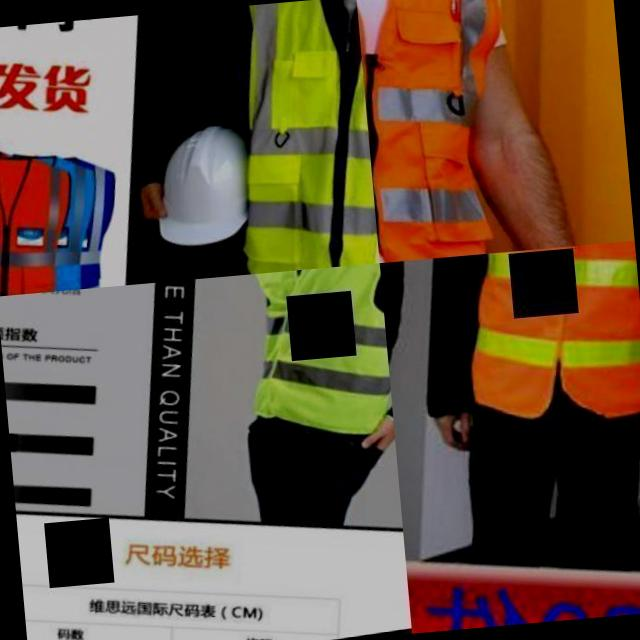vest: (191, 0, 379, 277), (355, 0, 542, 262), (430, 240, 640, 458), (221, 262, 396, 470), (0, 147, 79, 296)
